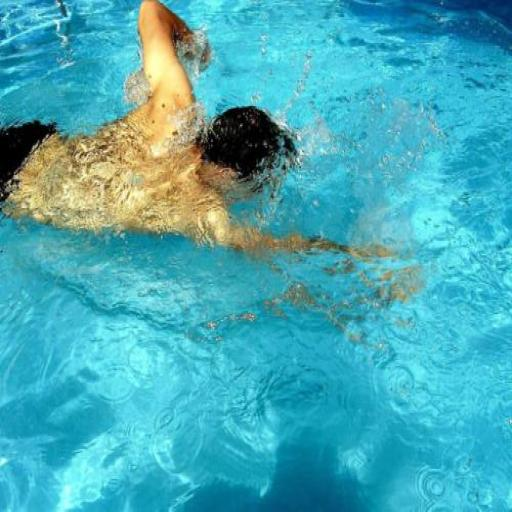swimming: (0, 0, 426, 346)
